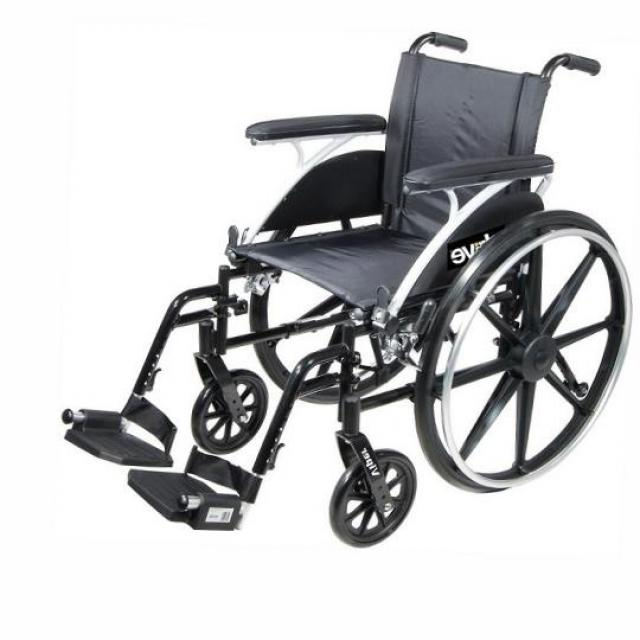wheelchair: (40, 24, 640, 550)
